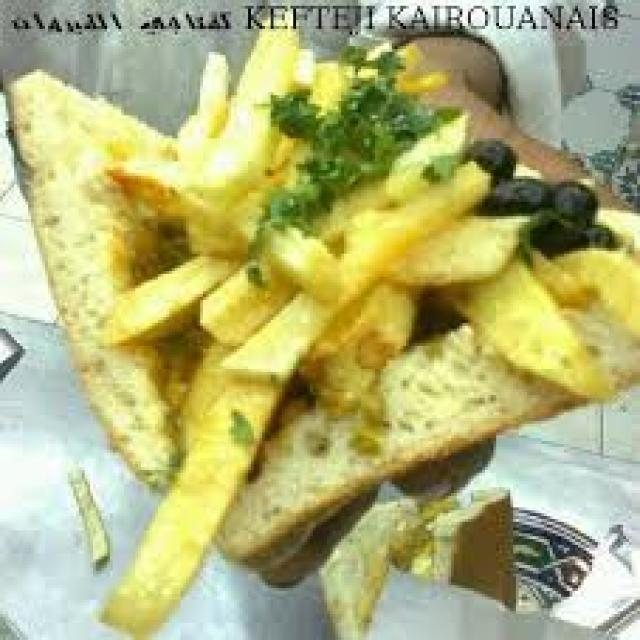Sandwitch tounsi: (21, 83, 627, 560)
